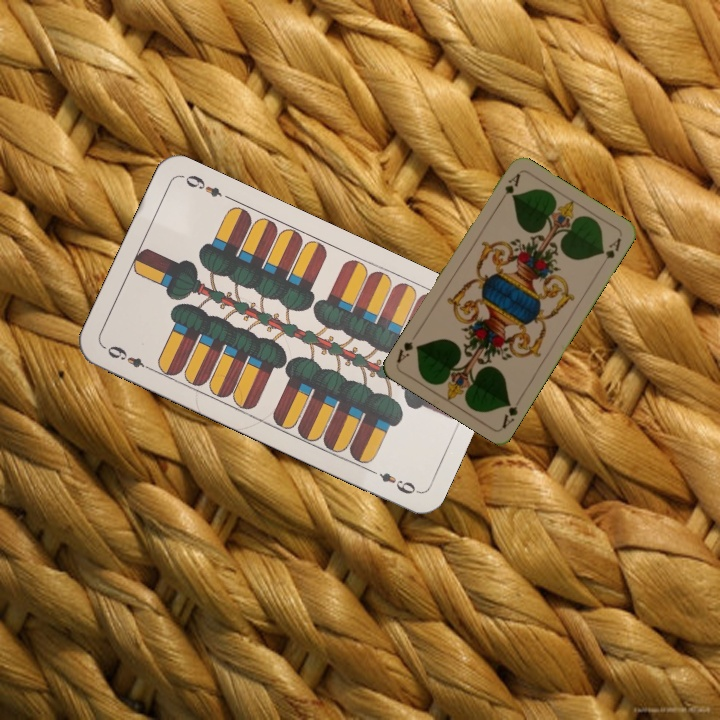E9: (100, 341, 156, 374)
GA: (495, 169, 523, 206), (498, 397, 521, 430)
